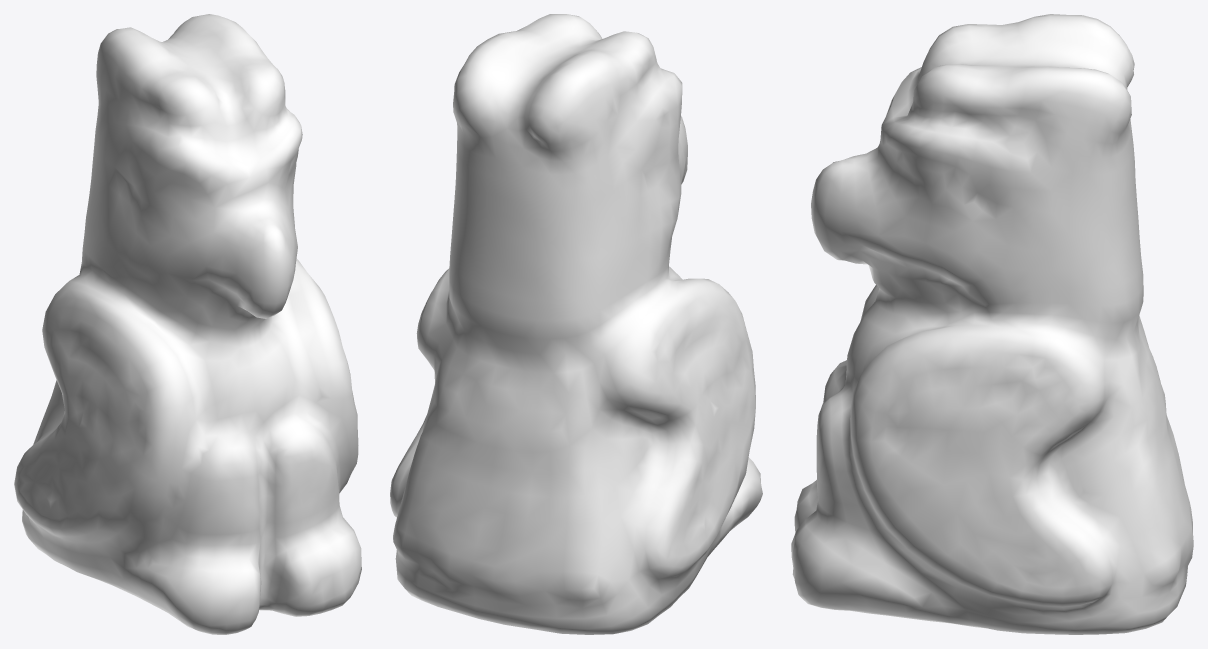
The model's file is itfigurine_v3.1_Cycles.obj.
The picture shows the model from 3 angles, left to right: view 1: azimuth 30°, elevation 25°; view 2: azimuth 150°, elevation 25°; view 3: azimuth 270°, elevation 25°; orthographic projection. The views are drawn at different scales.
Parts seen in each view (by area): view 1: itf_body; view 2: itf_body; view 3: itf_body.
Boxes of the visible parts, x1=… form: itf_body: x1=14, y1=14, x2=361, y2=634; itf_body: x1=390, y1=14, x2=762, y2=634; itf_body: x1=791, y1=14, x2=1193, y2=634.
Size of the model in its own units: 0.0478 by 0.0849 by 0.0568.
Materials: 1 (1 with a texture image).
